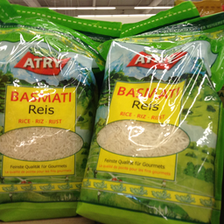rice: (77, 17, 224, 221), (1, 1, 119, 220)
